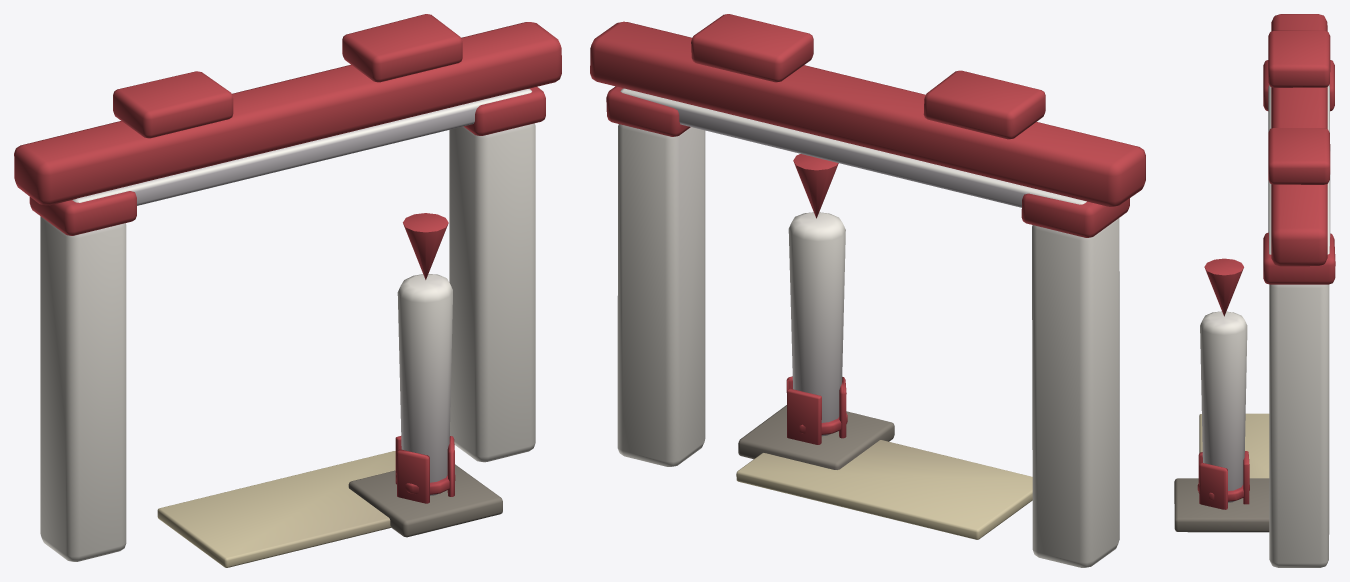
3 views of the same model, side by side, from view 1: azimuth 30°, elevation 25°; view 2: azimuth 150°, elevation 25°; view 3: azimuth 270°, elevation 25° (orthographic). The views are drawn at different scales.
Visible parts, largest first — view 1: gate_44b62f54; view 2: gate_44b62f54; view 3: gate_44b62f54.
Boxes of the visible parts, x1=… form: gate_44b62f54: x1=14, y1=14, x2=561, y2=567; gate_44b62f54: x1=590, y1=14, x2=1145, y2=567; gate_44b62f54: x1=1174, y1=14, x2=1335, y2=567.
Bounding box in the file's own units: 5.25 × 4.21 × 1.61.
